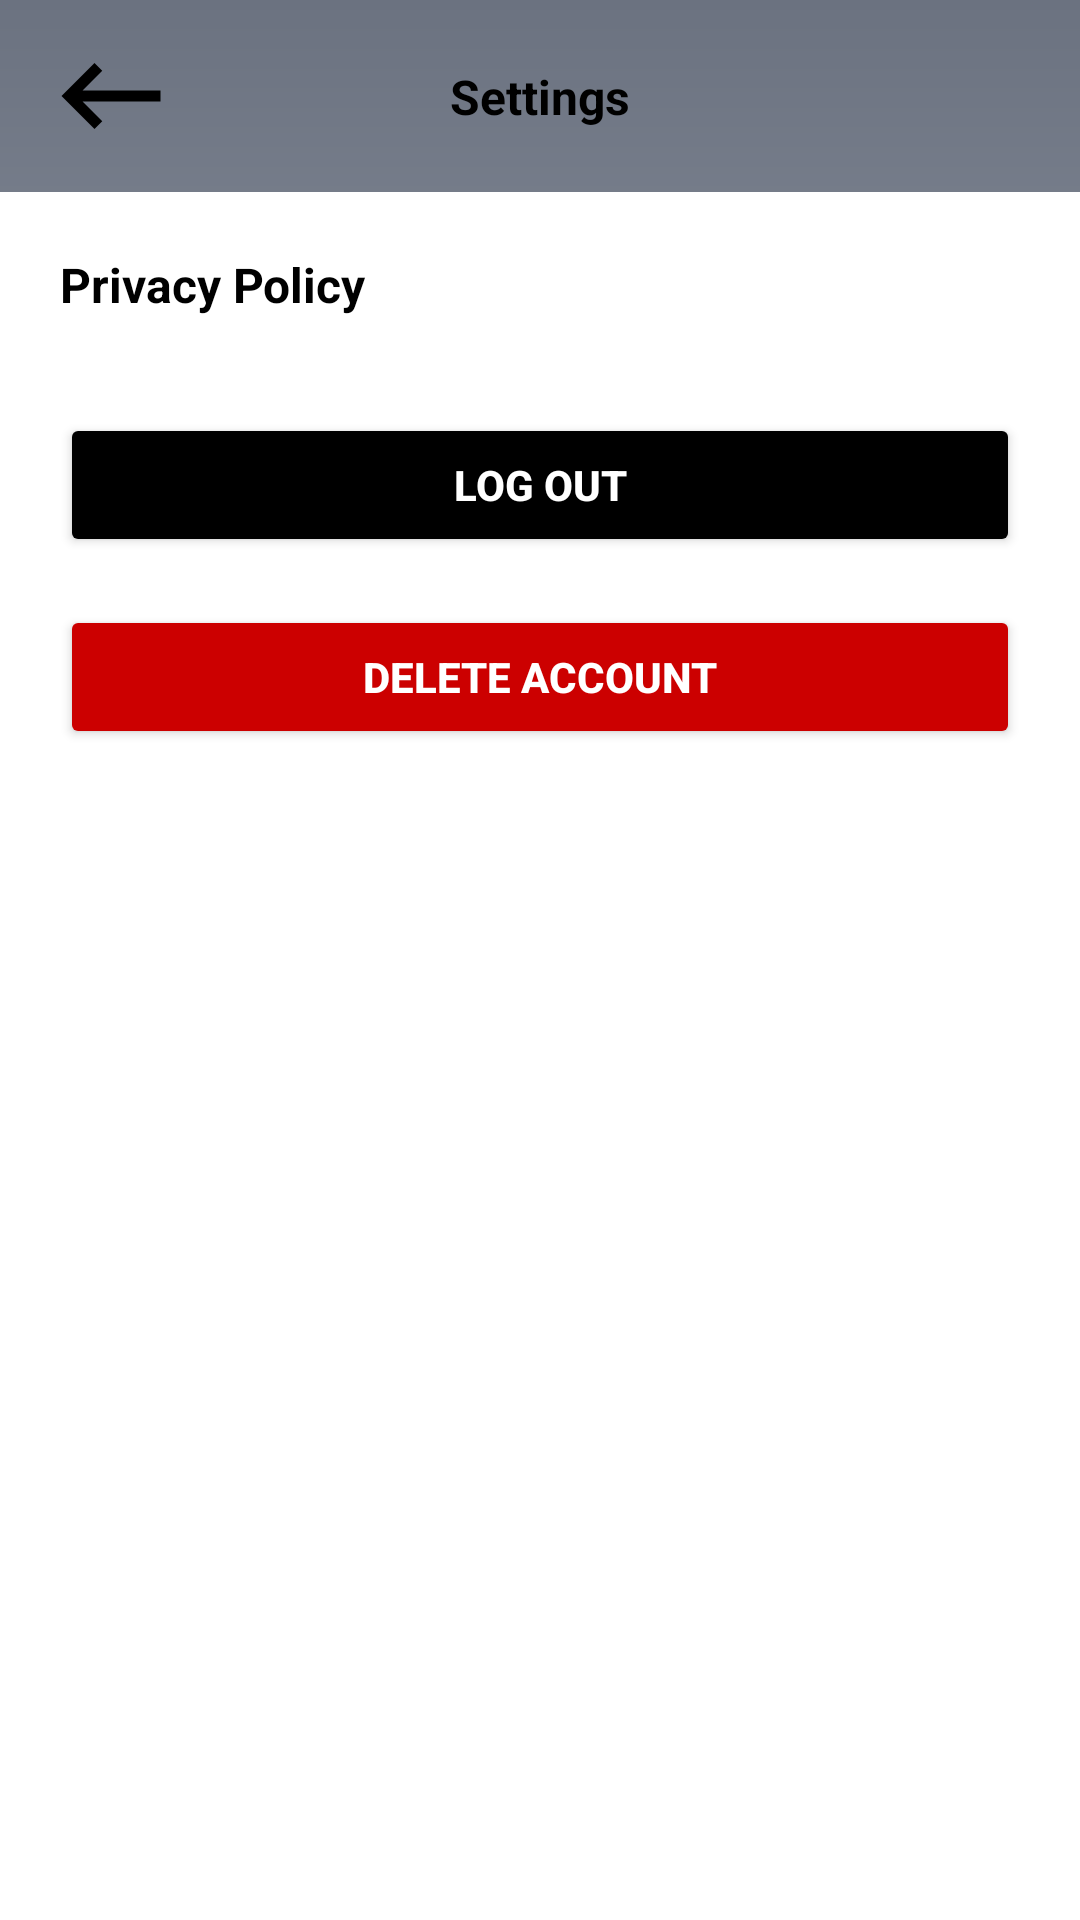

Icons on this 1080 x 1920 Android screen, each with its box as (x1, y1, x2, y2):
Back: (62, 63, 161, 129)
